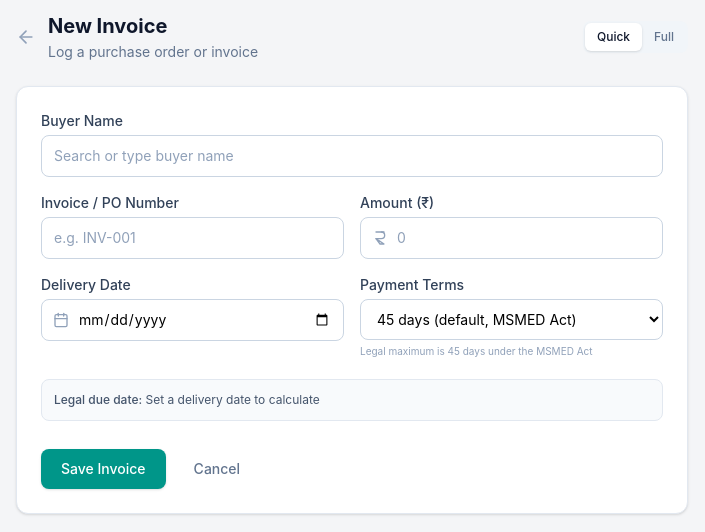
Test case: Legal due date calculation display › displays computed due date when delivery date and terms are set
In the date field labelled "Delivery Date": {"x": 192, "y": 320} x1=41 y1=299 x2=344 y2=341, type "2026-06-01"
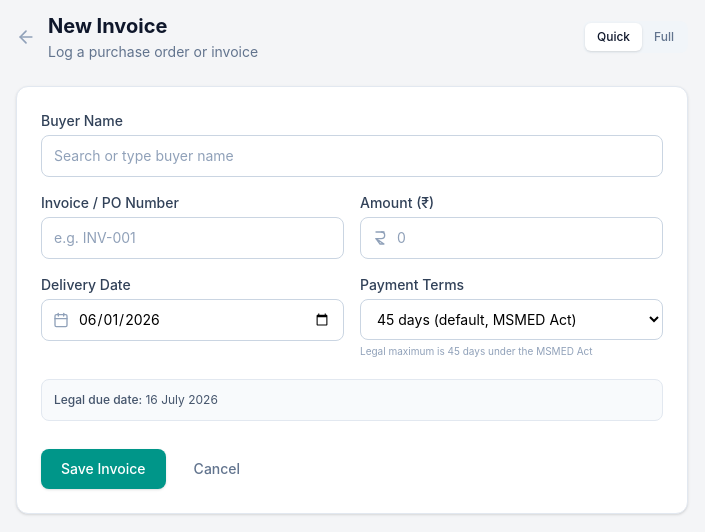
Expected: the text "Legal due date:" is shown, x1=54 y1=392 x2=142 y2=407
Expected: the text "Legal due date: 16 July 2026" is shown, x1=54 y1=392 x2=218 y2=407
